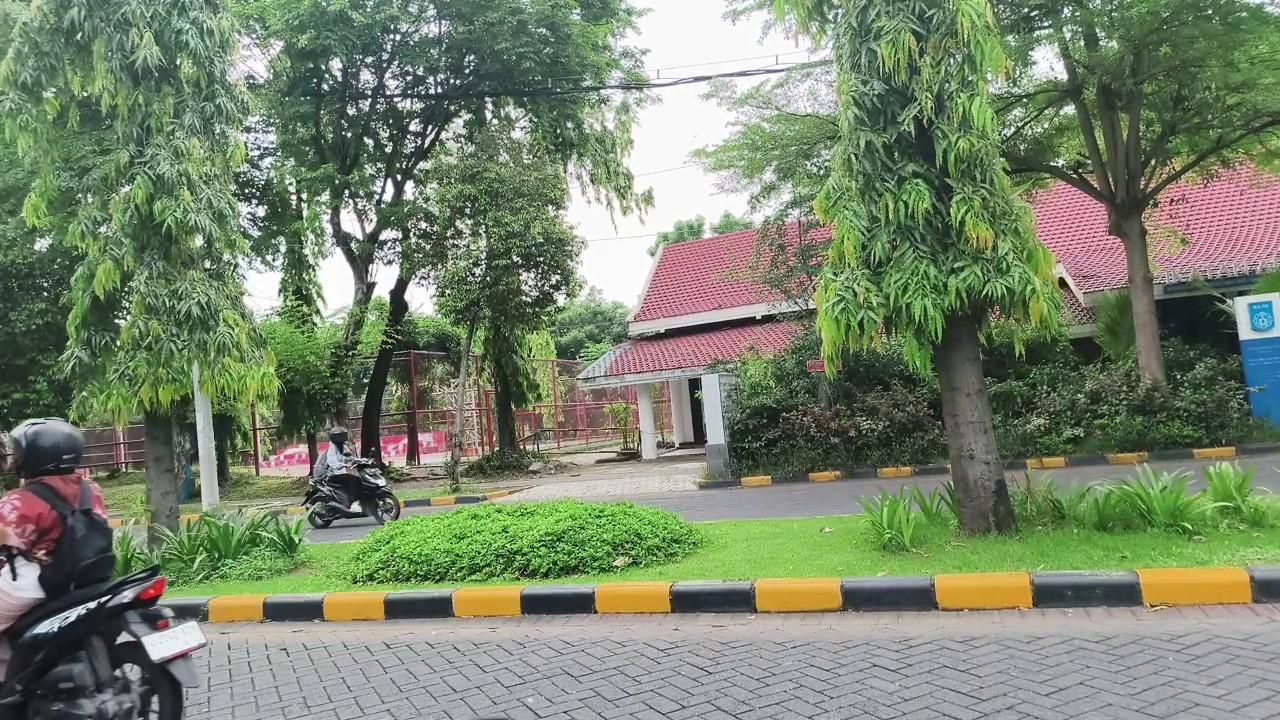Helmet: (0, 418, 85, 677), (312, 426, 354, 482)
Motor: (0, 568, 206, 719), (303, 458, 400, 528)
